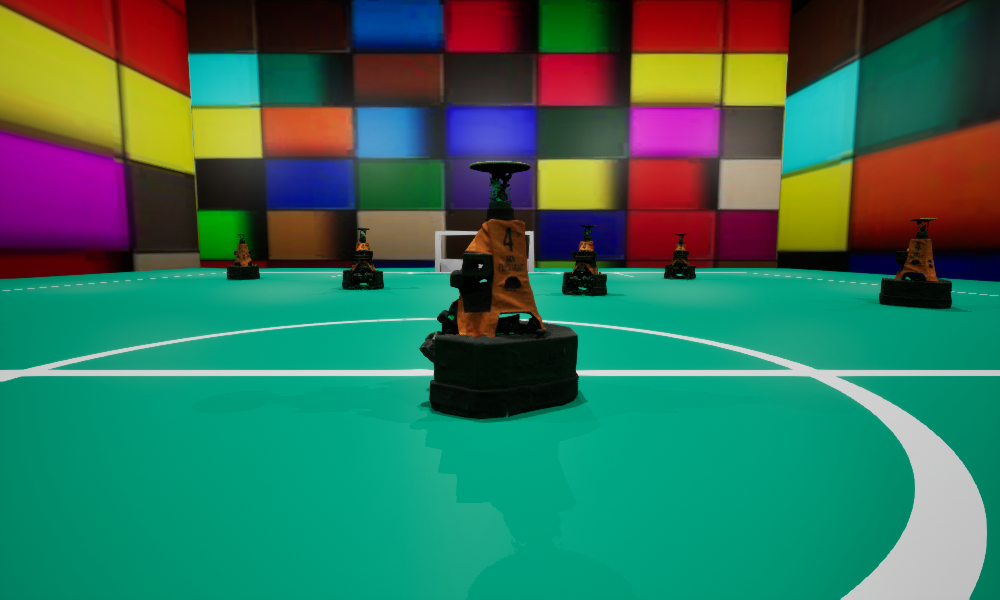0 orange robot TechUnited: (419, 161, 578, 417), (879, 218, 951, 308), (562, 225, 606, 294), (342, 228, 383, 289), (227, 233, 259, 279), (664, 234, 695, 278)
